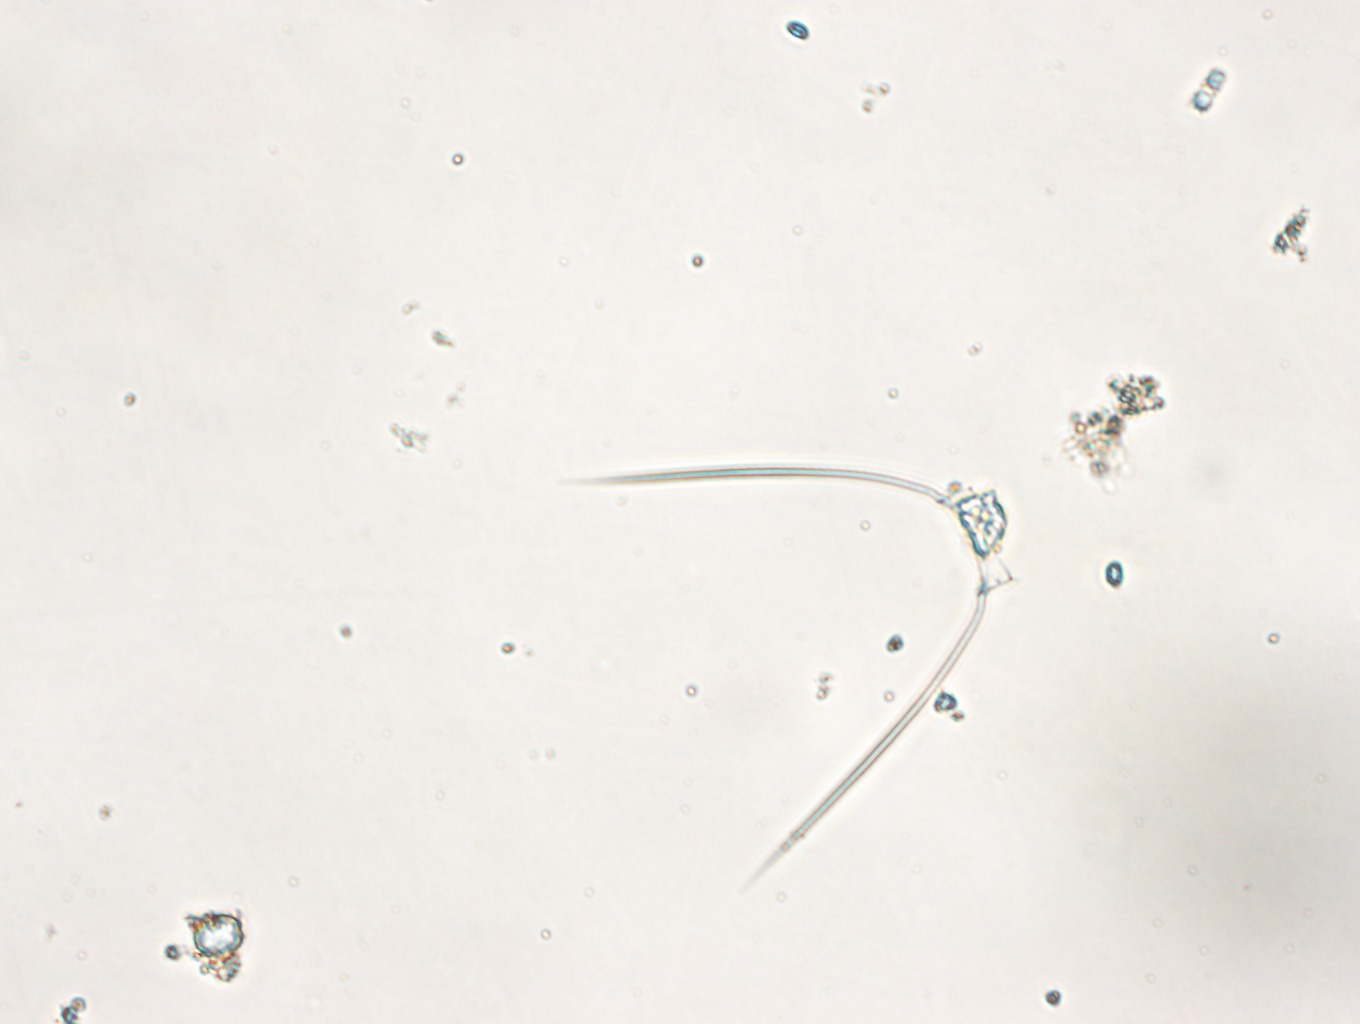chaetoceros: (564, 466, 1015, 887)
